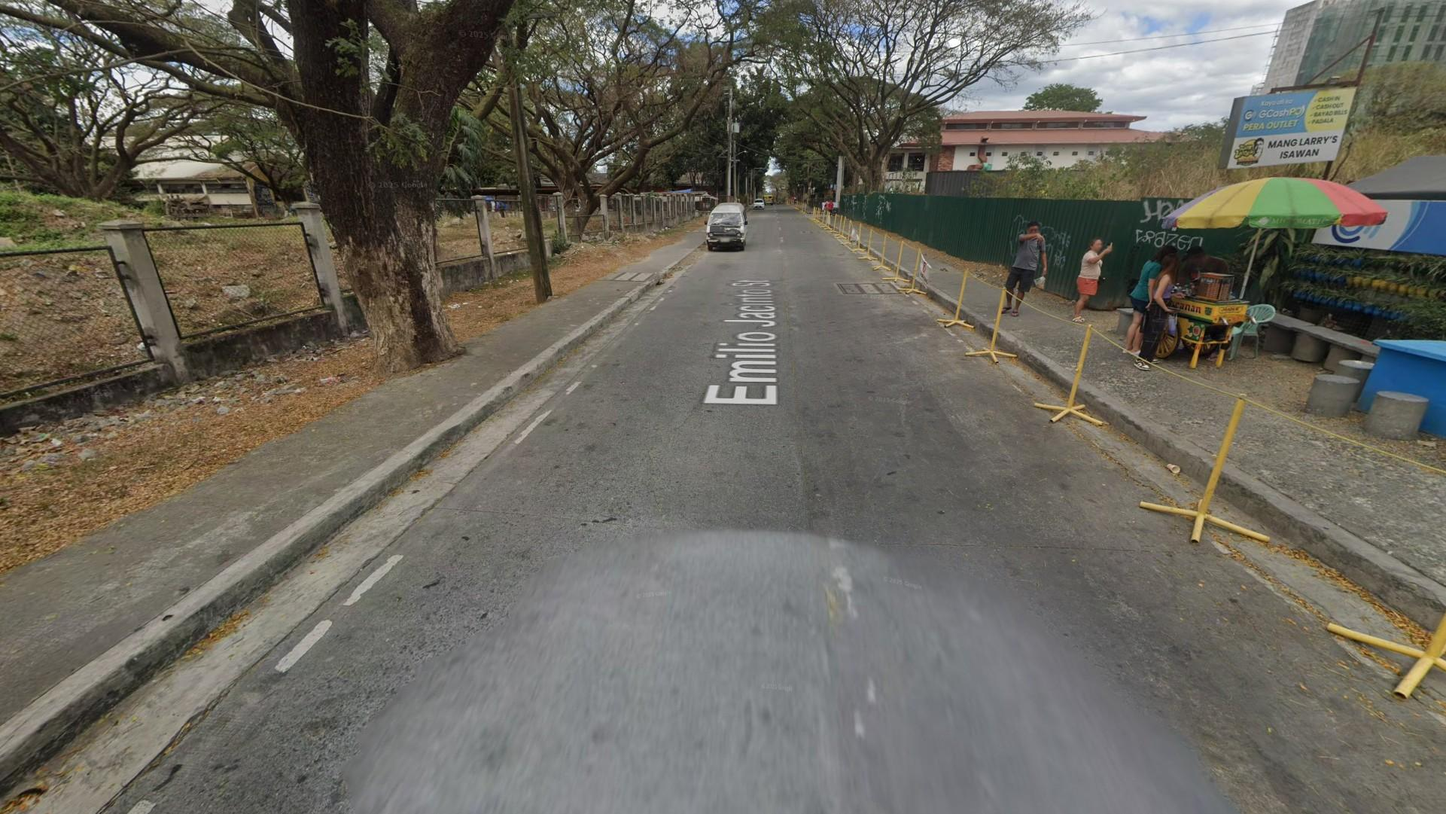pedestrian: (1122, 244, 1177, 356), (1132, 252, 1178, 371), (1178, 245, 1228, 346), (1000, 221, 1048, 317), (1072, 237, 1114, 324), (828, 199, 834, 217), (824, 200, 829, 217), (793, 195, 797, 205)
